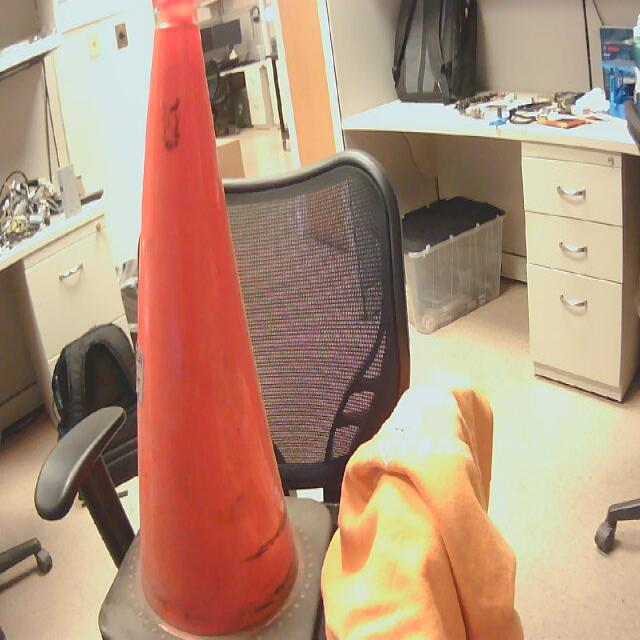traffic cone: (100, 1, 336, 640)
